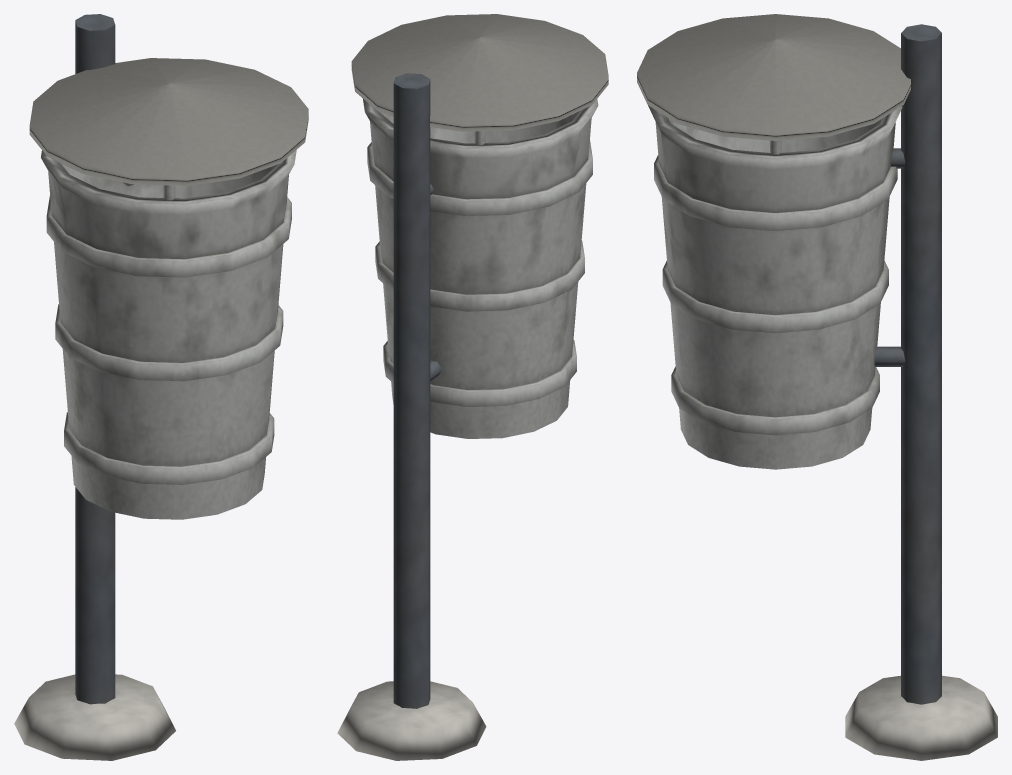
The model's file is ul_kosz.glb.
The picture shows the model from 3 angles, left to right: view 1: azimuth 30°, elevation 25°; view 2: azimuth 150°, elevation 25°; view 3: azimuth 270°, elevation 25°; orthographic projection. The views are drawn at different scales.
Parts seen in each view (by area): view 1: TintKubel, Slupek; view 2: TintKubel, Slupek; view 3: TintKubel, Slupek.
Boxes of the visible parts, bbox=[...] form: TintKubel: bbox=[29, 58, 308, 519]; Slupek: bbox=[14, 14, 175, 760]; TintKubel: bbox=[351, 14, 608, 438]; Slupek: bbox=[337, 73, 486, 760]; TintKubel: bbox=[637, 14, 910, 469]; Slupek: bbox=[845, 24, 997, 760].
Size of the model in its own units: 0.38 by 1.05 by 0.4946.
2 materials, 2 textured.
